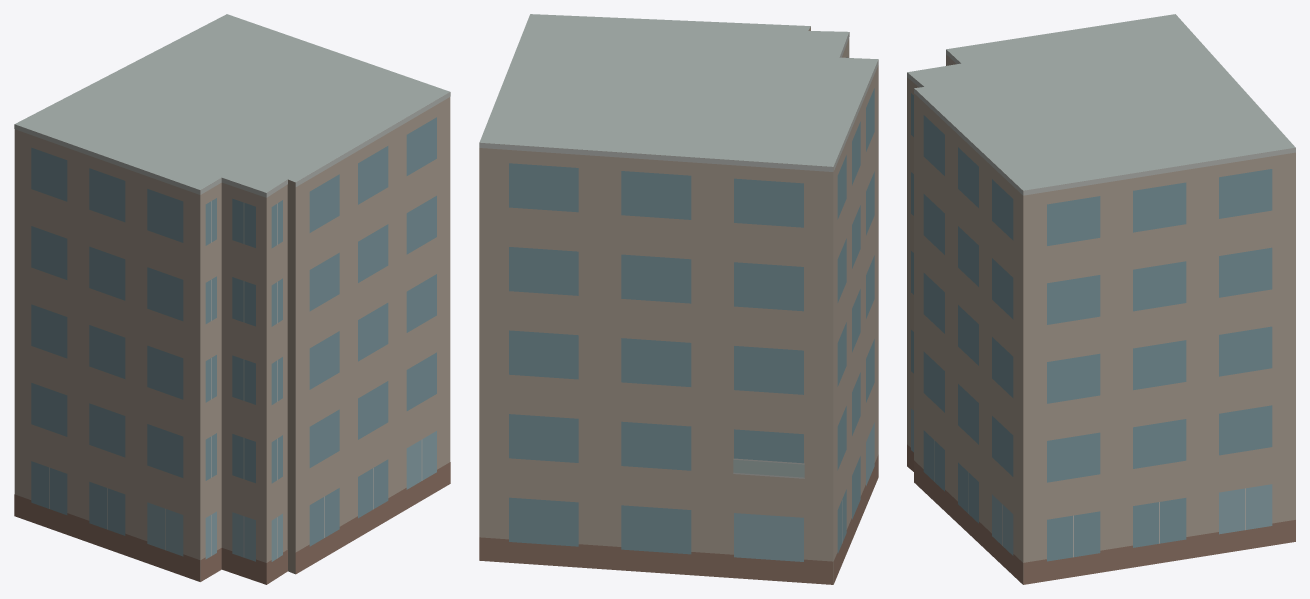
File: survey-upis-32843225.glb
The picture shows the model from 3 angles, left to right: view 1: azimuth 30°, elevation 25°; view 2: azimuth 150°, elevation 25°; view 3: azimuth 270°, elevation 25°; orthographic projection. The views are drawn at different scales.
Parts seen in each view (by area): view 1: survey-upis-32843225.tmp; view 2: survey-upis-32843225.tmp; view 3: survey-upis-32843225.tmp.
Part boxes in pixels (x1,y1,x2,y2): survey-upis-32843225.tmp: [14, 14, 450, 584]; survey-upis-32843225.tmp: [479, 14, 878, 584]; survey-upis-32843225.tmp: [907, 14, 1295, 584].
Size of the model in its own units: 18.86 by 19.6 by 17.53.
